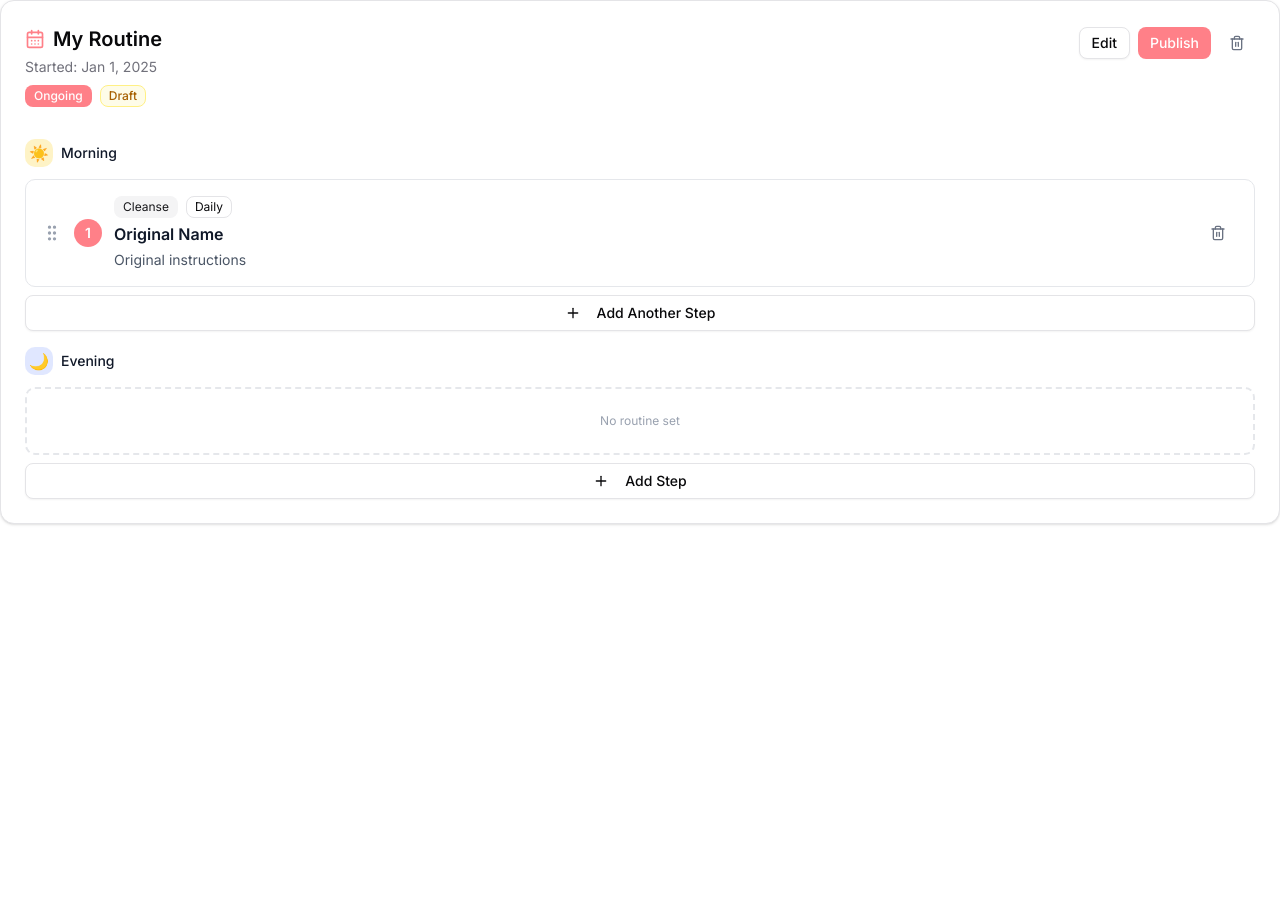
it: RoutineSection - Complete User Workflows › user cancels editing a product without saving changes
// User clicks on product to edit
Click the heading "Original Name".
click(169, 234)  # box x1=114 y1=224 x2=224 y2=244
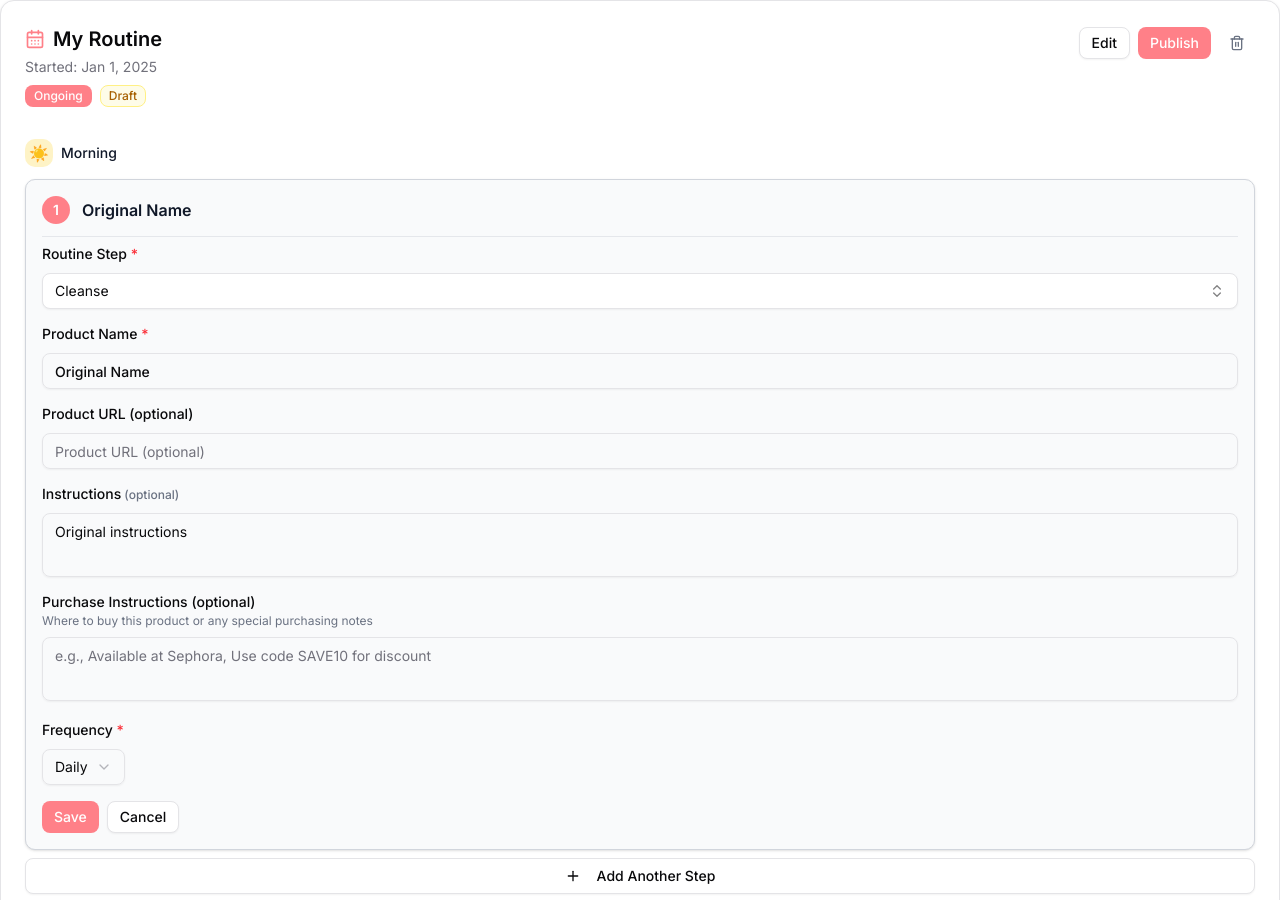
Result: the field with placeholder "Product Name" is shown
// User makes changes
Replace the text in the field with placeholder "Product Name" with "Changed Name" at (640, 371), box x1=42 y1=353 x2=1238 y2=389
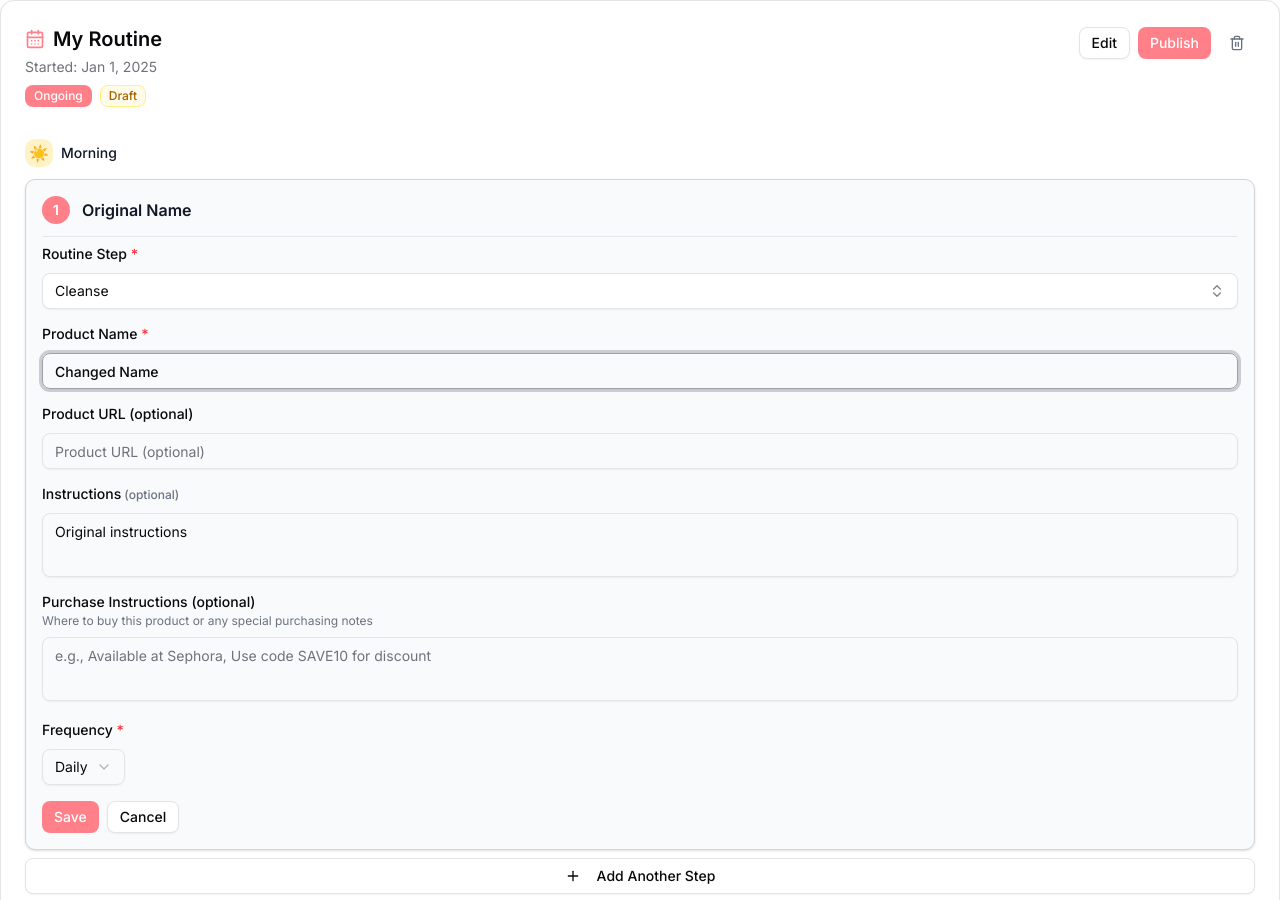
Replace the text in the text box with placeholder "e.g., Apply to damp skin, massage gently" with "Changed instructions" at (640, 545), box x1=42 y1=513 x2=1238 y2=577
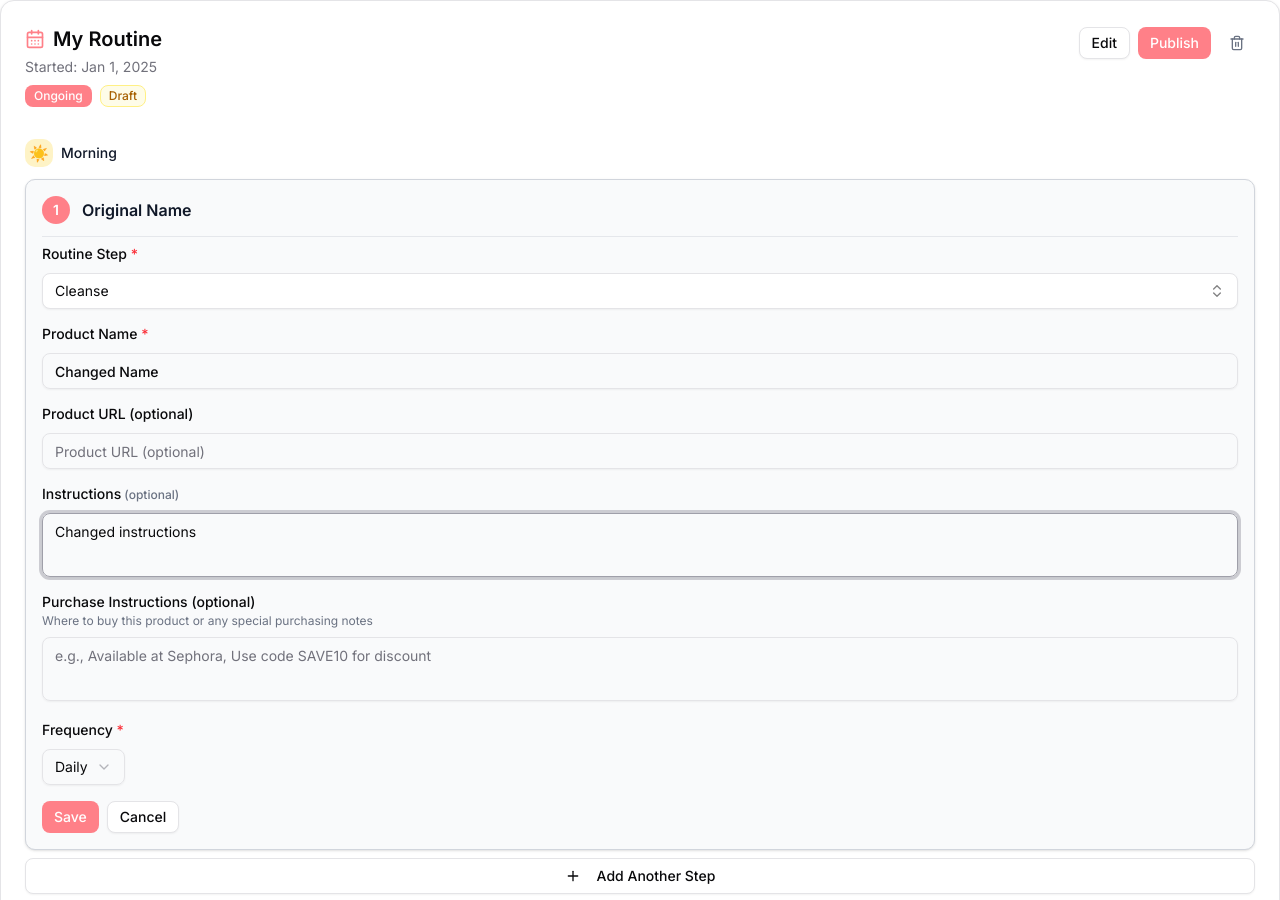
// User clicks Cancel
Click the button "Cancel".
click(143, 817)  # box x1=107 y1=801 x2=179 y2=833
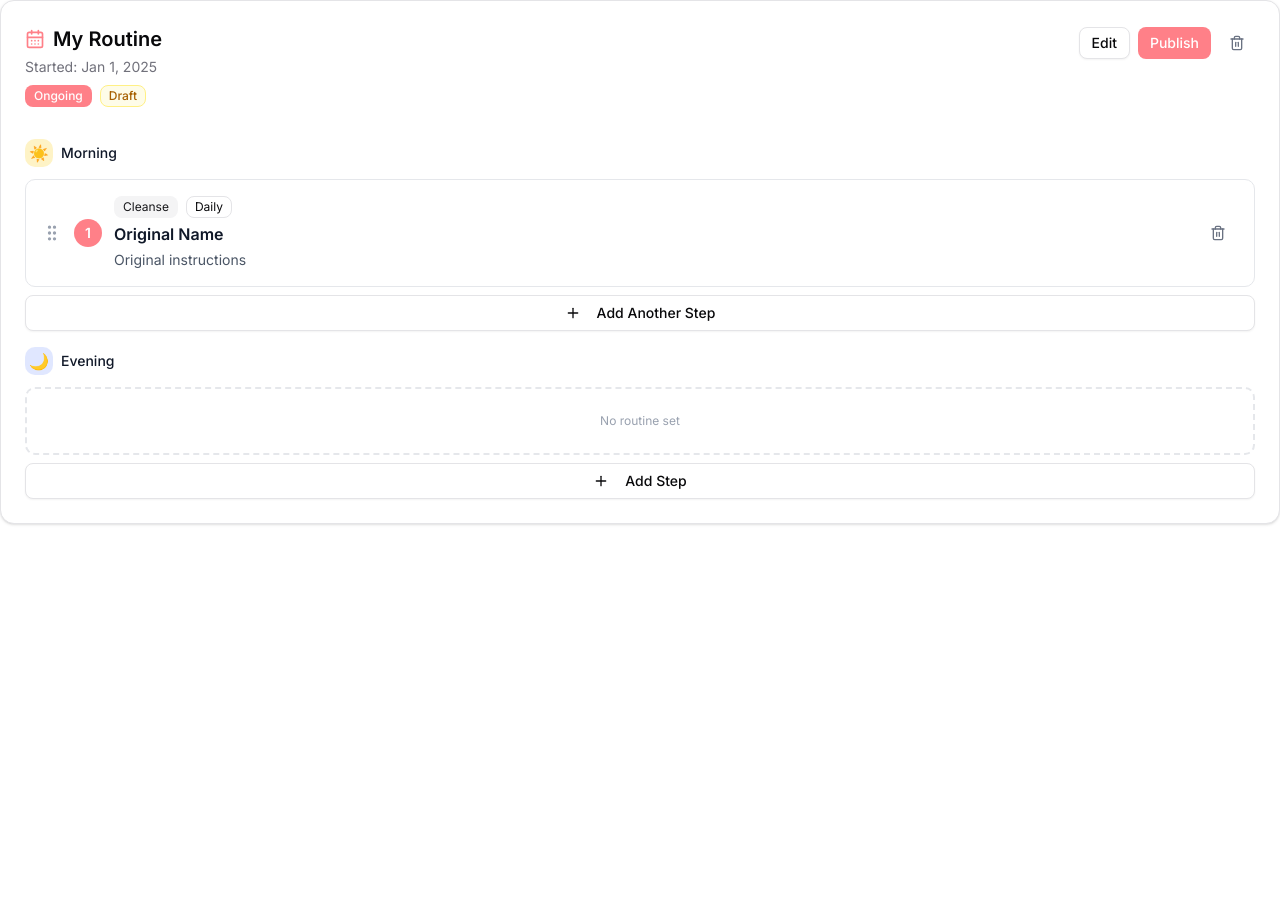
Expected: the heading "Original Name" is shown, x1=114 y1=224 x2=224 y2=244
Result: the text "Original instructions" is shown at x1=114 y1=251 x2=246 y2=268
